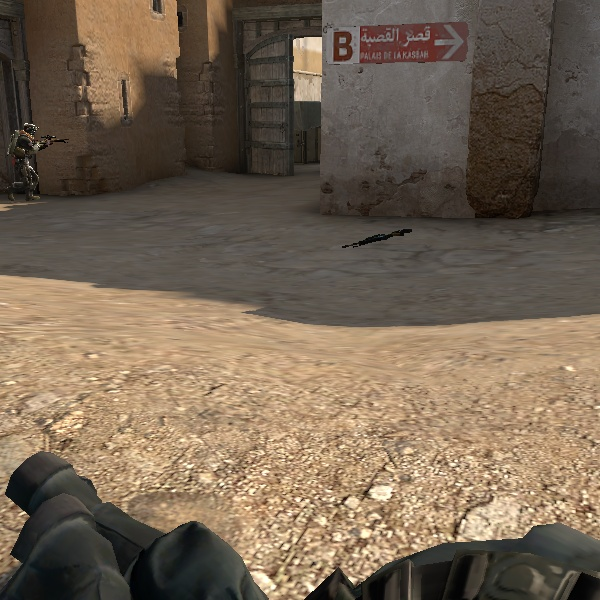ct_body: (2, 119, 48, 203)
ct_head: (16, 118, 41, 144)
